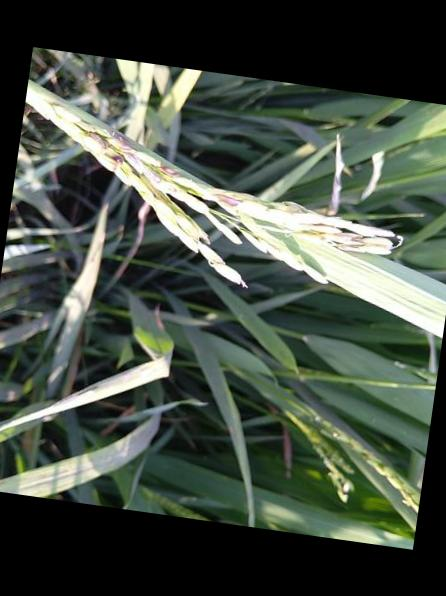Panicle Blight: (304, 232, 364, 251), (88, 132, 121, 161), (274, 200, 312, 213), (113, 132, 134, 150), (214, 195, 242, 205), (159, 165, 180, 177)
